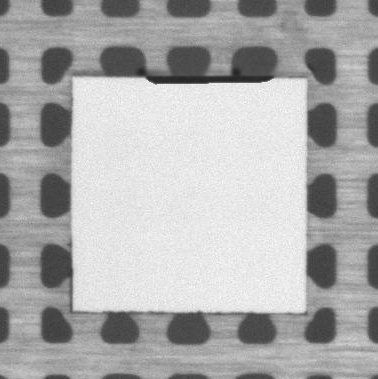DIE_BROKEN: (145, 70, 277, 87)
